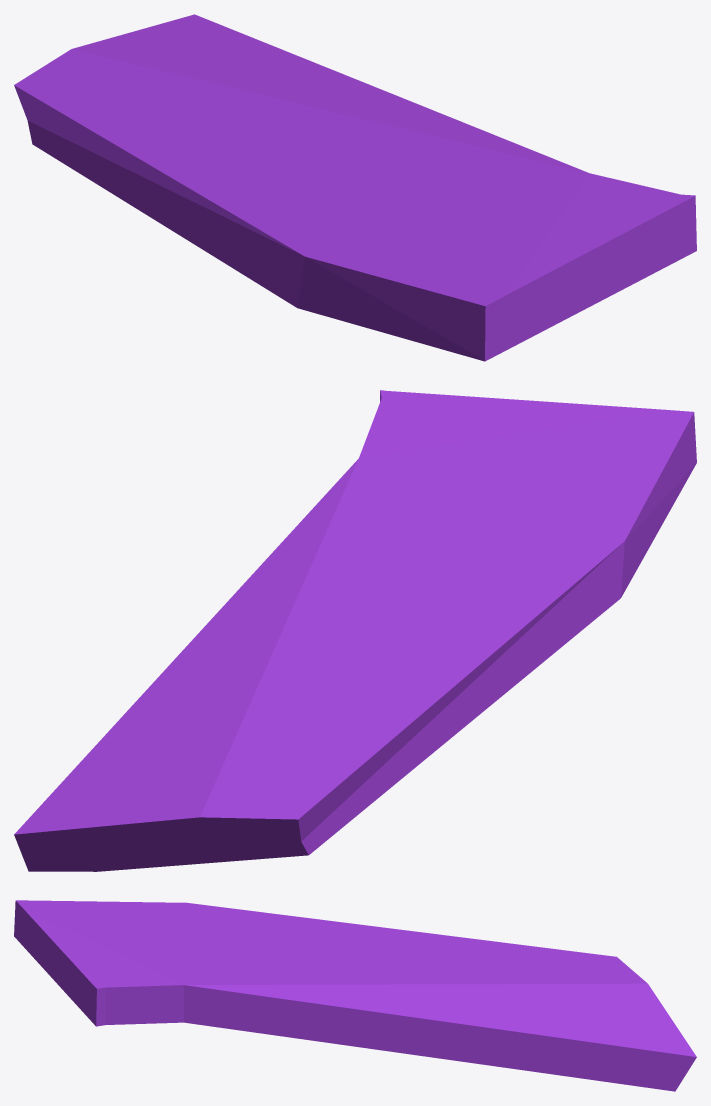
File: Glass_101_1_3_chunks.fbx
3 views of the same model, one above another, from view 1: azimuth 30°, elevation 25°; view 2: azimuth 150°, elevation 25°; view 3: azimuth 270°, elevation 25° (orthographic). The views are drawn at different scales.
Parts seen in each view (by area): view 1: Glass_101_1_3_0, Glass_101_1_3_3, Glass_101_1_3_1, Glass_101_1_3_2; view 2: Glass_101_1_3_0, Glass_101_1_3_1, Glass_101_1_3_3, Glass_101_1_3_2; view 3: Glass_101_1_3_1, Glass_101_1_3_3, Glass_101_1_3_0, Glass_101_1_3_2.
Part boxes in pixels (bbox=[...]): Glass_101_1_3_0: bbox=[14, 51, 410, 285]; Glass_101_1_3_3: bbox=[383, 146, 696, 325]; Glass_101_1_3_1: bbox=[68, 14, 521, 165]; Glass_101_1_3_2: bbox=[262, 211, 553, 361]; Glass_101_1_3_0: bbox=[206, 535, 616, 859]; Glass_101_1_3_1: bbox=[14, 523, 386, 871]; Glass_101_1_3_3: bbox=[300, 390, 694, 554]; Glass_101_1_3_2: bbox=[498, 414, 696, 631]; Glass_101_1_3_1: bbox=[240, 965, 696, 1091]; Glass_101_1_3_3: bbox=[15, 900, 284, 1030]; Glass_101_1_3_0: bbox=[198, 904, 645, 981]; Glass_101_1_3_2: bbox=[14, 900, 223, 964].
Bounding box in the file's own units: 275 × 145 × 736.
